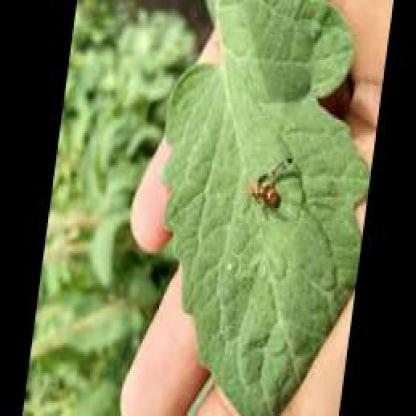fruit fly: (247, 160, 299, 209)
